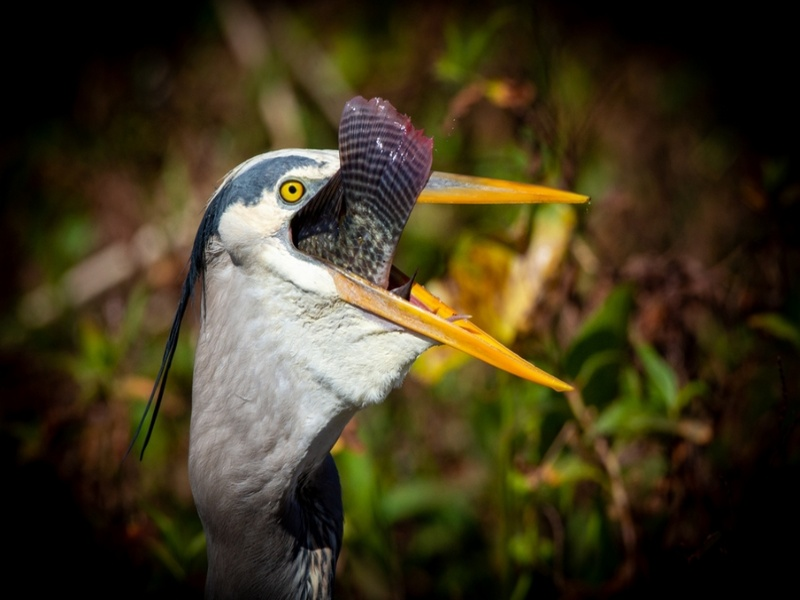heron: (177, 146, 593, 600)
